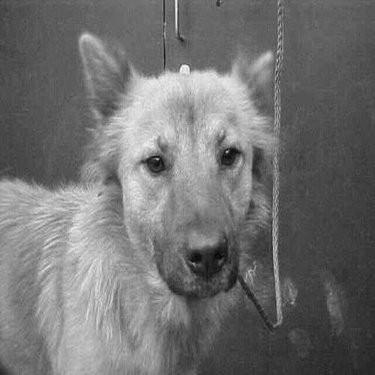dog: (1, 27, 284, 373)
